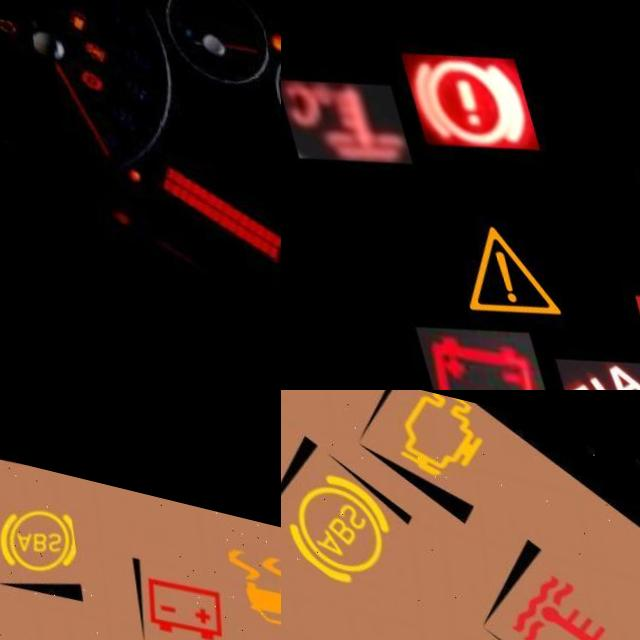Central Warning lamp: (420, 176, 569, 341)
Engine cooling system: (281, 56, 406, 179)
Low fuel level: (68, 10, 93, 40)
